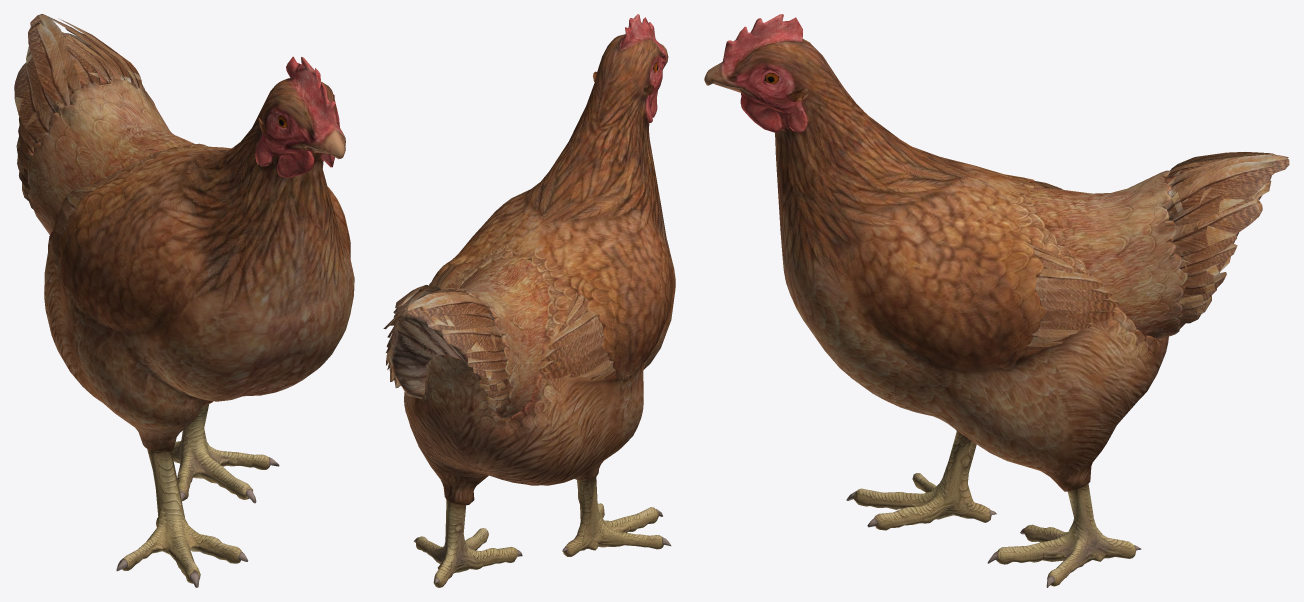
Rendered from flood-chicken.glb.
3 renders of one model, left to right at view 1: azimuth 30°, elevation 25°; view 2: azimuth 150°, elevation 25°; view 3: azimuth 270°, elevation 25°, orthographic. The views are drawn at different scales.
Visible parts, largest first — view 1: flood-chicken; view 2: flood-chicken; view 3: flood-chicken.
Part boxes in pixels (x1,y1,x2,y2): flood-chicken: (14,14,354,587); flood-chicken: (383,14,675,587); flood-chicken: (704,14,1289,587).
Size of the model in its own units: 0.0173 by 0.0387 by 0.039.
1 material, 1 textured.
